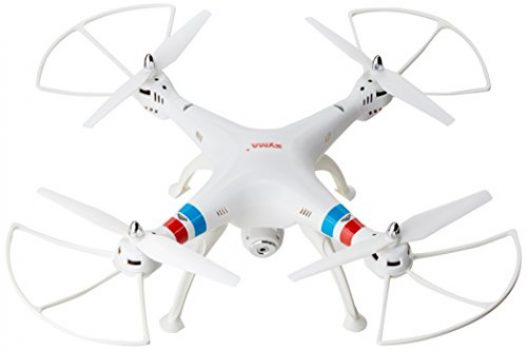drone: (4, 1, 527, 349)
